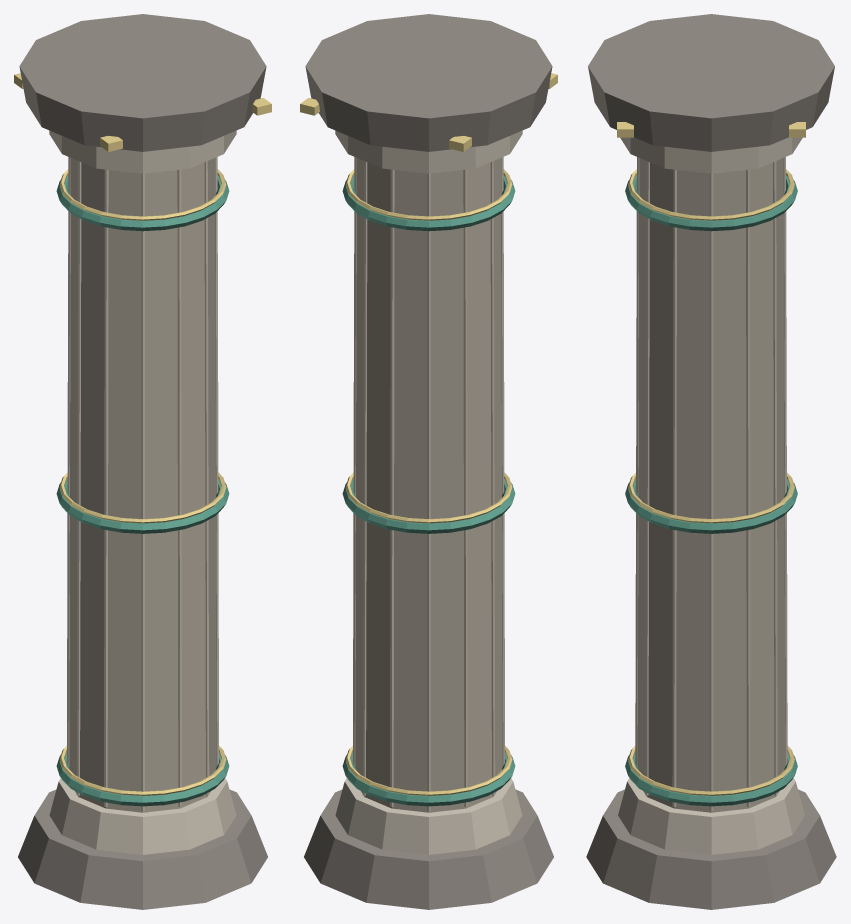
File: columna_templo.glb
The picture shows the model from 3 angles, left to right: view 1: azimuth 30°, elevation 25°; view 2: azimuth 150°, elevation 25°; view 3: azimuth 270°, elevation 25°; orthographic projection.
Visible parts, largest first — view 1: columna_templo; view 2: columna_templo; view 3: columna_templo.
Boxes of the visible parts, x1,y1,x2,y2 form: columna_templo: (14,14,271,909); columna_templo: (300,14,557,909); columna_templo: (586,14,836,909).
Size of the model in its own units: 3 by 10.45 by 3.
